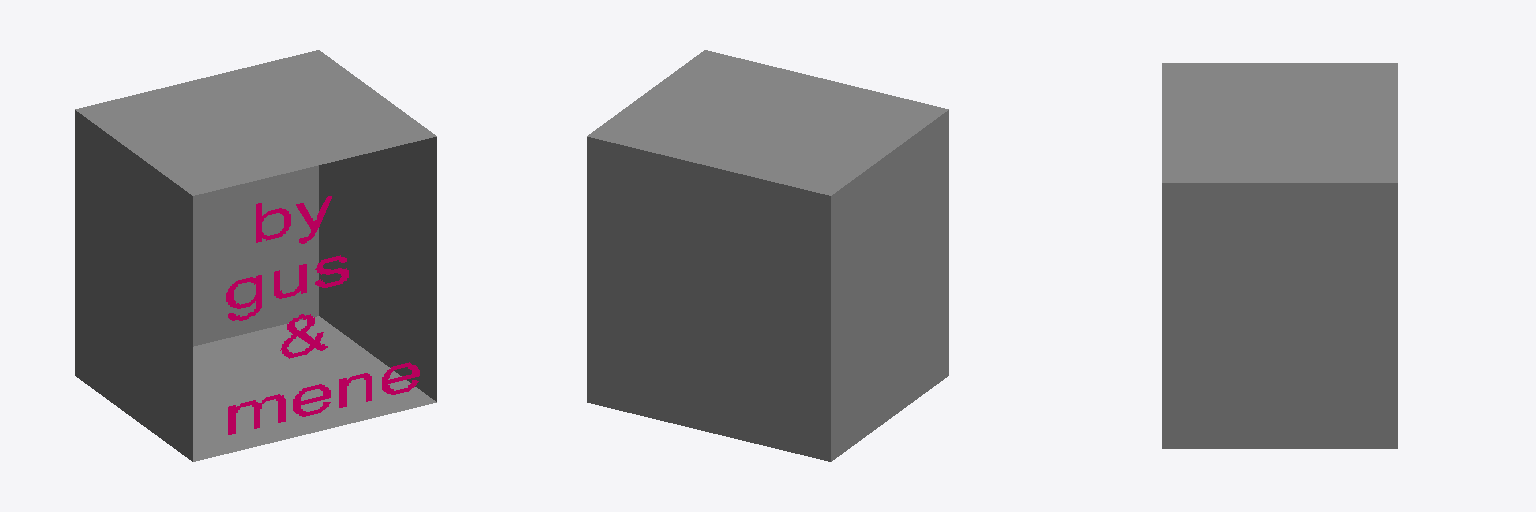
3 views of the same model, side by side, from view 1: azimuth 30°, elevation 25°; view 2: azimuth 150°, elevation 25°; view 3: azimuth 270°, elevation 25° (orthographic).
Parts seen in each view (by area): view 1: Text001; view 2: Text001; view 3: Text001.
Boxes of the visible parts, box(x1,y1,x2,y2) form: Text001: box(75, 50, 436, 461); Text001: box(587, 50, 948, 461); Text001: box(1162, 63, 1397, 448).
Bounding box in the file's own units: 1.24 × 1.29 × 1.04.
Materials: 2 (1 with a texture image).